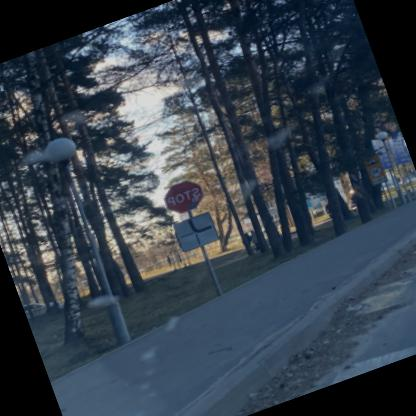speedlimit: (370, 162, 385, 176)
stop: (160, 173, 208, 216)
